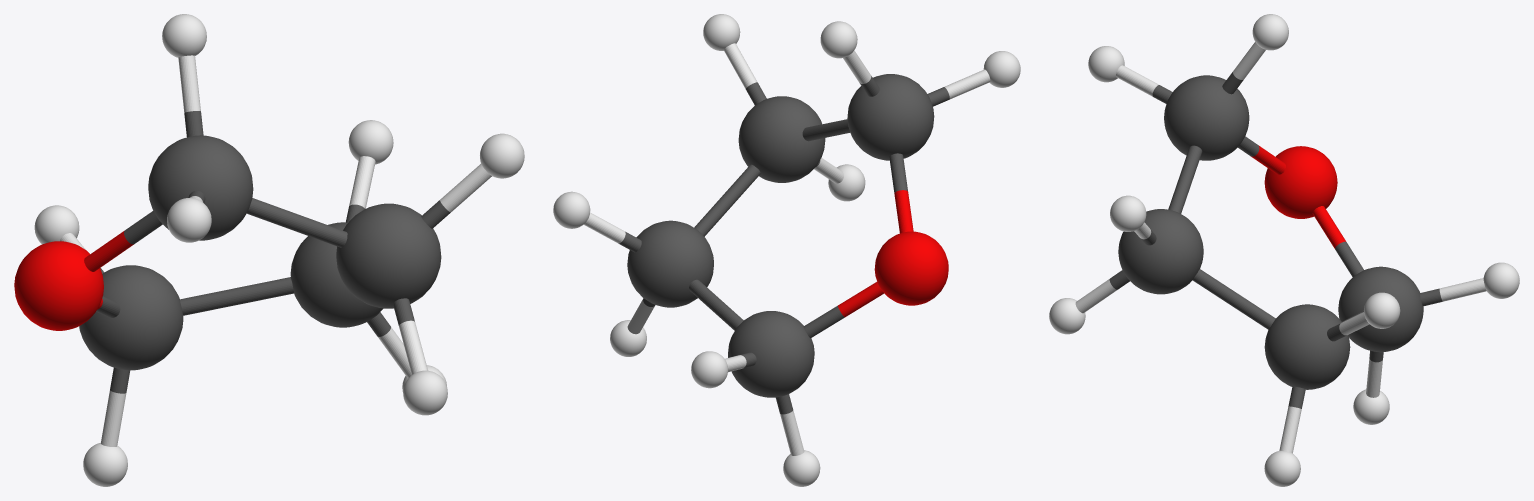
Rendered from tetrahydrofuran.glb.
The picture shows the model from 3 angles, left to right: view 1: azimuth 30°, elevation 25°; view 2: azimuth 150°, elevation 25°; view 3: azimuth 270°, elevation 25°; orthographic projection. The views are drawn at different scales.
Visible parts, largest first — view 1: C03, C05, C02, O01, C04, C04-C05, C02-C03, H08, H09, H06, H07, H13 (+9 smaller); view 2: C02, C04, C03, C05, O01, O01-C05, C03-C04, O01-C02, H07, H10, H12, H09 (+12 smaller); view 3: C04, C02, C03, C05, O01, C03-C04, O01-C05, H07, H09, H10, H12, H11 (+12 smaller).
Boxes of the visible parts, x1,y1,x2,y2 form: C03: (336,203,441,308); C05: (79,265,183,370); C02: (148,135,253,240); O01: (14,241,103,330); C04: (290,222,383,327); C04-C05: (180,277,294,315); C02-C03: (247,198,347,247); H08: (403,370,447,415); H09: (480,133,524,178); H06: (167,198,211,242); H07: (162,14,206,57); H13: (83,442,127,486); C02: (847,74,934,160); C04: (627,220,713,307); C03: (738,96,825,182); C05: (728,311,814,397); O01: (874,231,948,305); O01-C05: (803,282,884,338); C03-C04: (694,164,760,236); O01-C02: (889,153,913,233); H07: (820,21,857,58); H10: (553,191,590,228); H12: (691,351,727,388); H09: (703,14,740,50); C04: (1264,304,1350,389); C02: (1164,75,1249,160); C03: (1118,209,1203,294); C05: (1338,266,1423,352); O01: (1264,146,1337,218); C03-C04: (1192,269,1275,329); O01-C05: (1312,206,1363,276); H07: (1252,14,1288,50); H09: (1110,195,1146,231); H10: (1364,292,1400,328); H12: (1483,262,1519,298); H11: (1264,450,1300,486).
Bounding box in the file's own units: 3.45 × 4.01 × 4.13.
